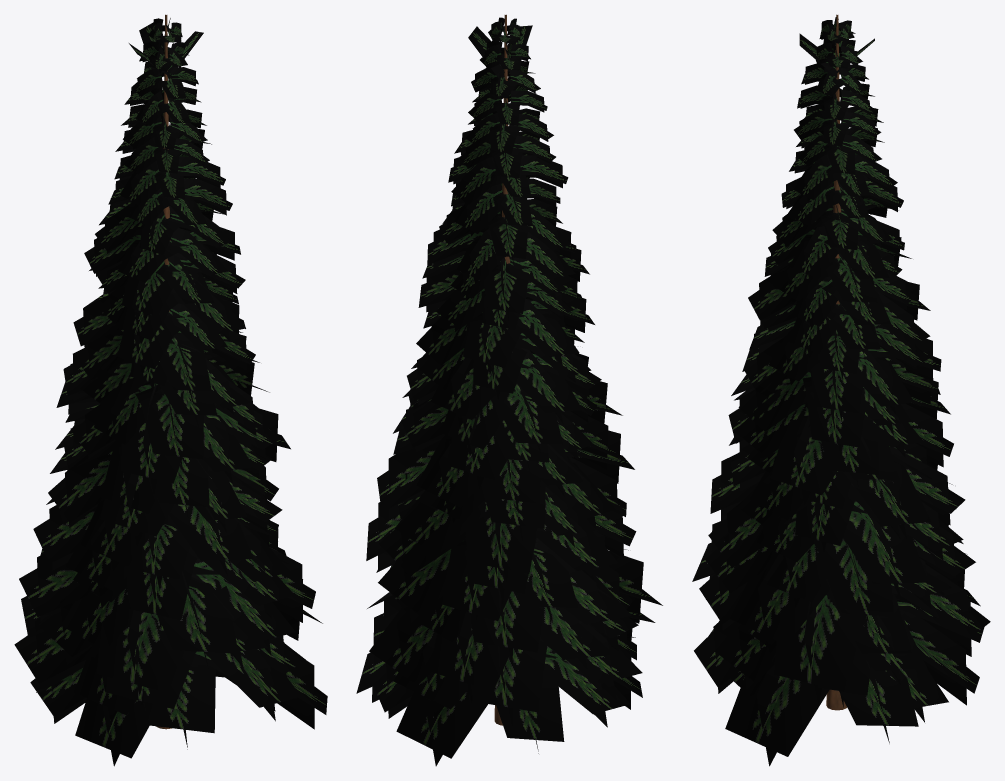
The model's file is arbre_epicea_lod0.glb.
3 views of the same model, side by side, from view 1: azimuth 30°, elevation 25°; view 2: azimuth 150°, elevation 25°; view 3: azimuth 270°, elevation 25° (orthographic). The views are drawn at different scales.
Visible parts, largest first — view 1: arbre; view 2: arbre; view 3: arbre.
Part boxes in pixels (x1,y1,x2,y2): arbre: [14, 14, 327, 766]; arbre: [356, 14, 662, 766]; arbre: [692, 14, 990, 766].
Size of the model in its own units: 8.86 by 22.53 by 8.73.
Materials: 2 (2 with a texture image).
